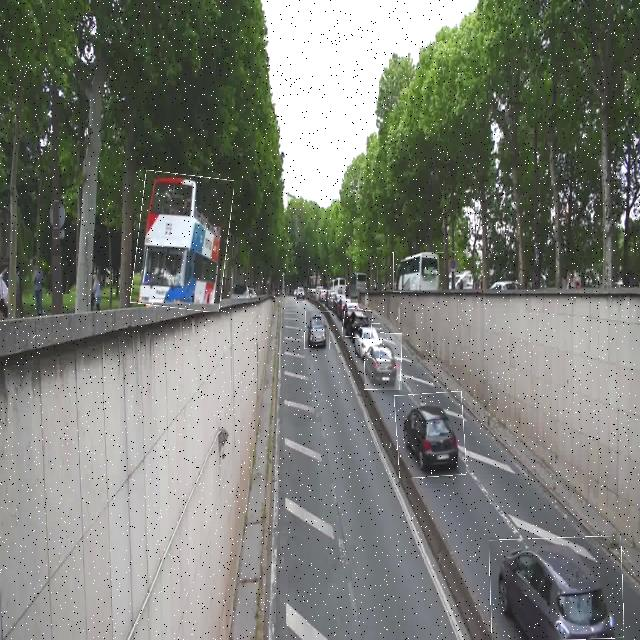Bus: (134, 173, 231, 310), (393, 252, 444, 292)
Car: (489, 537, 623, 640), (396, 392, 465, 477), (365, 333, 402, 390), (305, 311, 330, 349), (356, 323, 382, 358), (343, 309, 373, 339)
